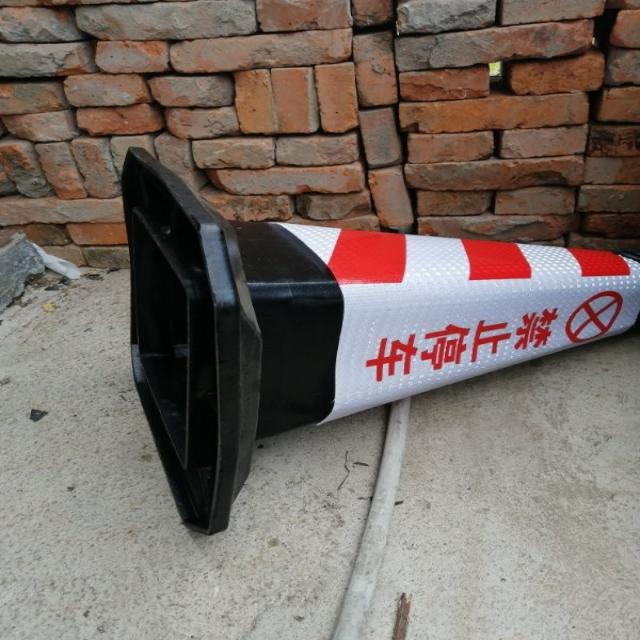reflective_cone: (108, 144, 639, 533)
